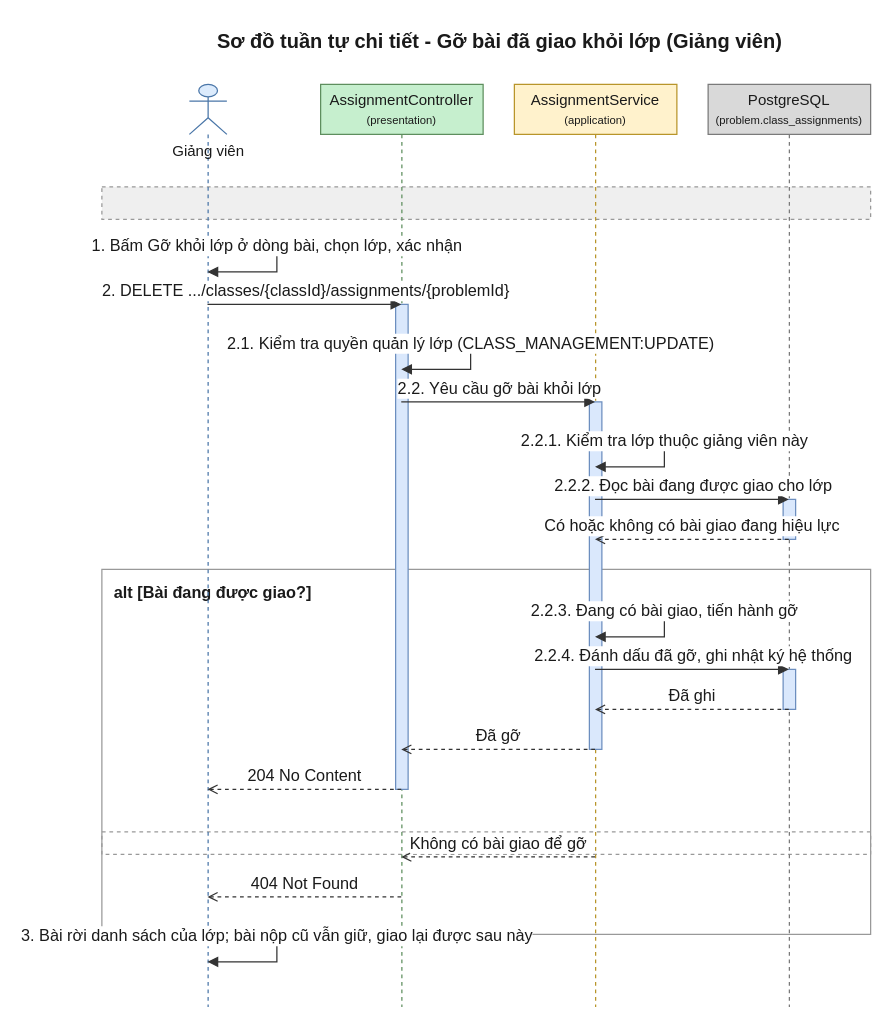
Some shapes in this 893 by 1029 pixel diagram are drawn without their labels. The shapes that lost their labels are listed below. From the top down, each one's centre as x and y in pixels, then its label:
At point (486, 202): "Gỡ một bài khỏi một lớp: ẩn mềm, giữ nguyên lượt nộp cũ (F2-12)".
At point (486, 842): "else".
